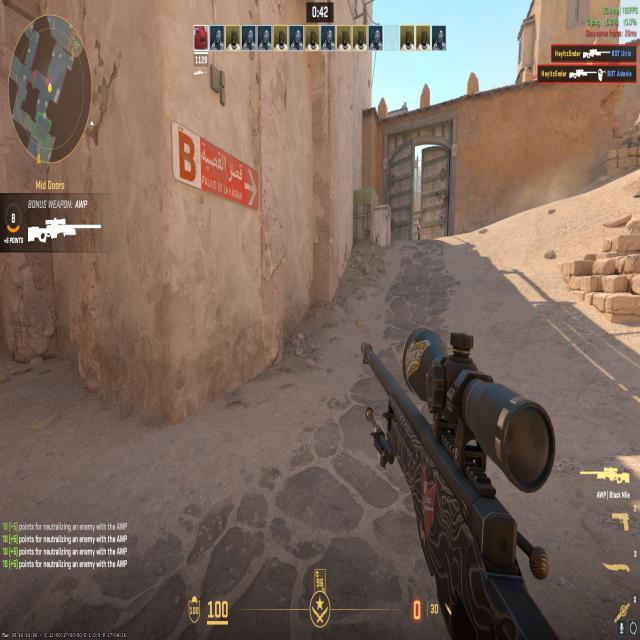t: (414, 212, 422, 240)
